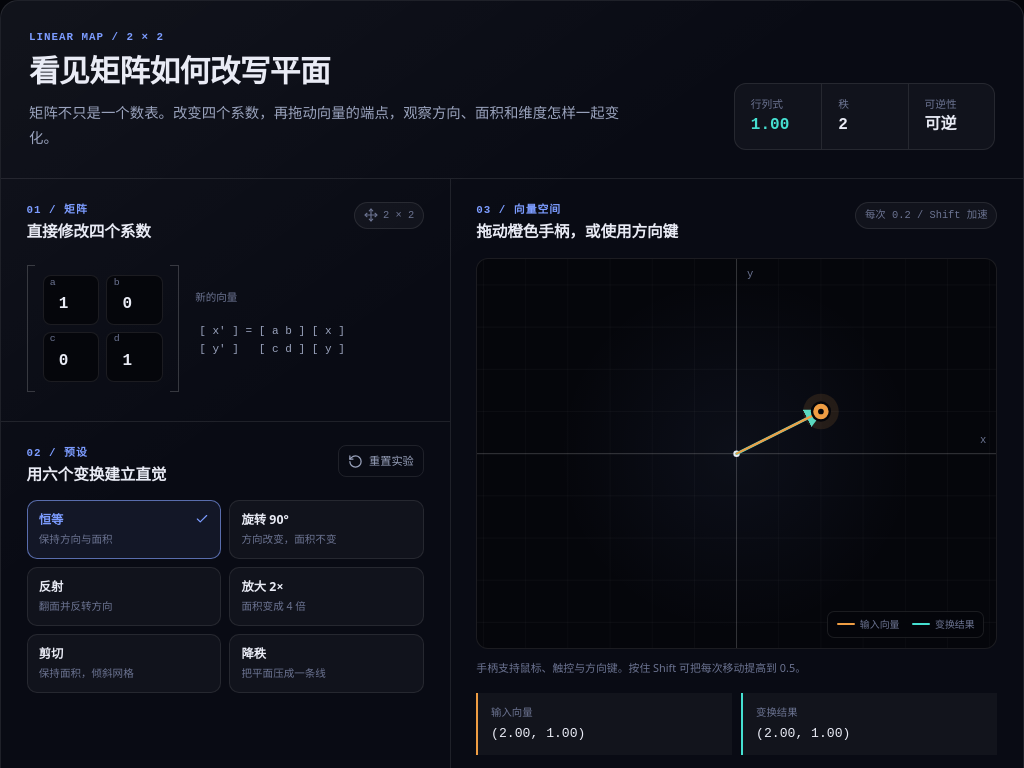
Test: 矩阵学习实验 › 重置恢复单位矩阵和默认向量
This screenshot has width=1024, height=768.
Click the button "反射 翻面并反转方向" at (124, 596), box [27,567,221,626]
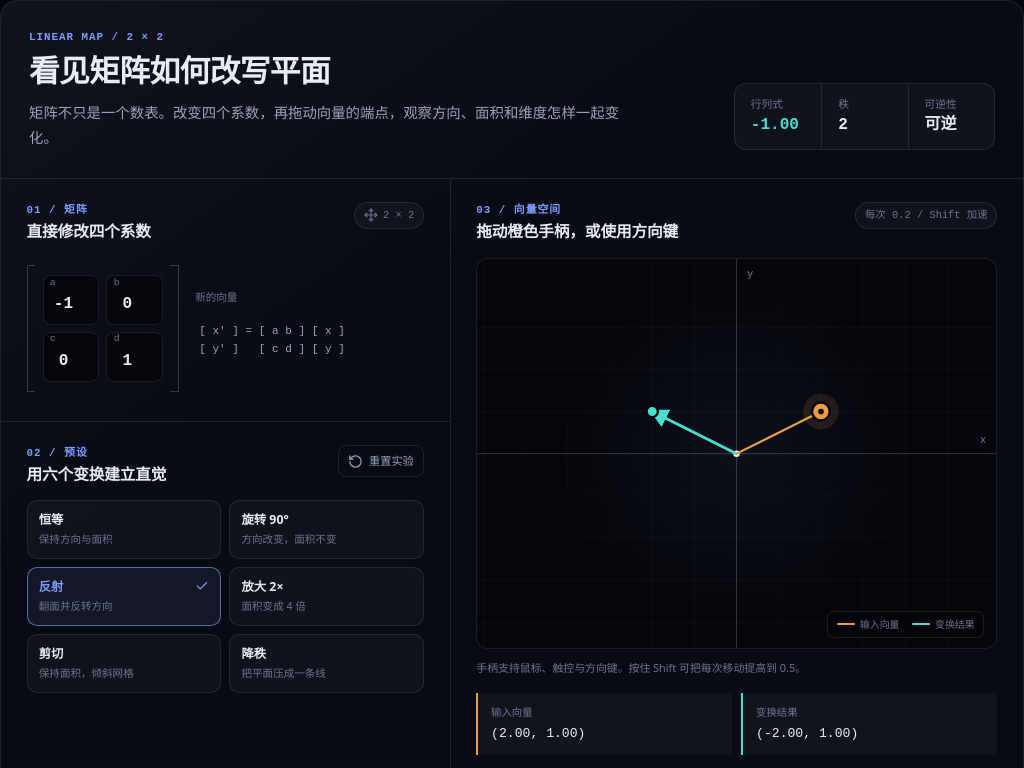
Expected: the text with test id "matrix-determinant" reads "-1.00", [751,116,799,134]
Click the button "重置实验" at (381, 461), box [338,445,424,477]
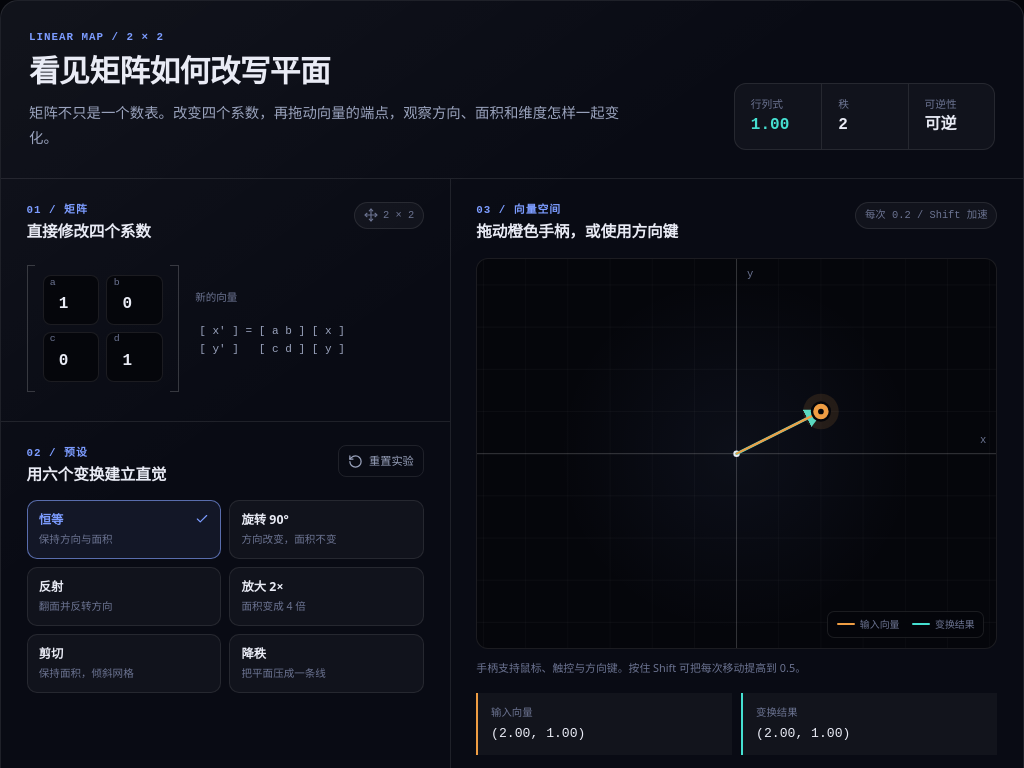
Expected: the text with test id "input-vector-value" reads "(2.00, 1.00)", [491,726,586,741]
Expected: the text with test id "matrix-determinant" reads "1.00", [751,116,789,134]
